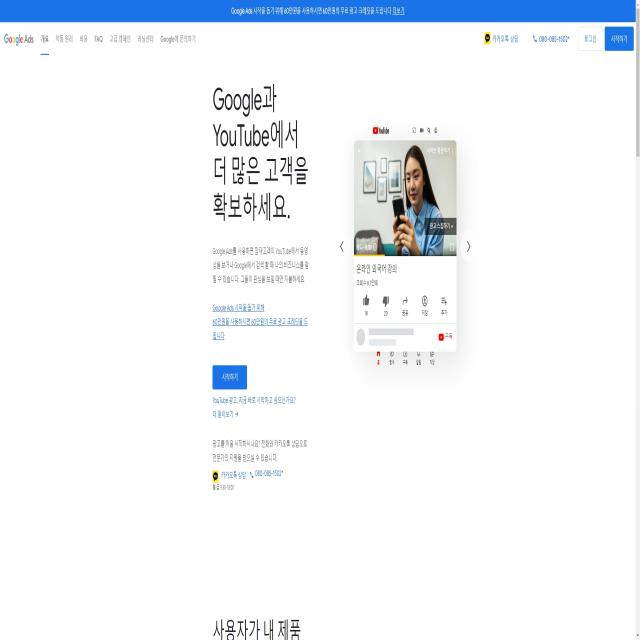menu-bar: (38, 26, 200, 49)
